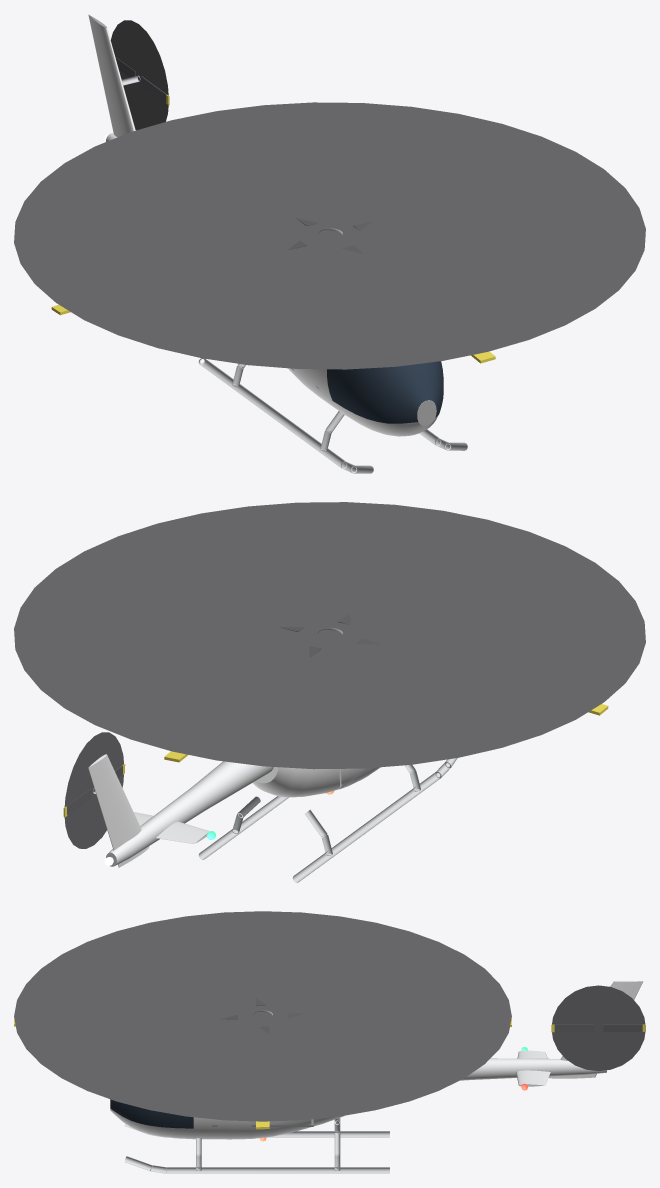
3 renders of one model, top to bottom at view 1: azimuth 30°, elevation 25°; view 2: azimuth 150°, elevation 25°; view 3: azimuth 270°, elevation 25°, orthographic. The views are drawn at different scales.
Visible parts, largest first — view 1: airframe, rotor; view 2: airframe, rotor; view 3: airframe, tail, rotor.
Boxes of the visible parts, x1,y1,x2,y2 form: airframe: (14,14,645,473); rotor: (51,217,495,363); airframe: (14,502,645,882); rotor: (164,613,608,762); airframe: (14,911,645,1173); tail: (551,1024,645,1032); rotor: (14,998,511,1129).
Bounding box in the file's own units: 10.7 × 4.23 × 13.58.
